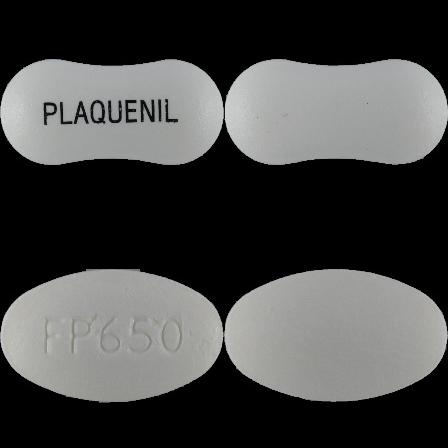66993-057: (0, 0, 224, 224)
